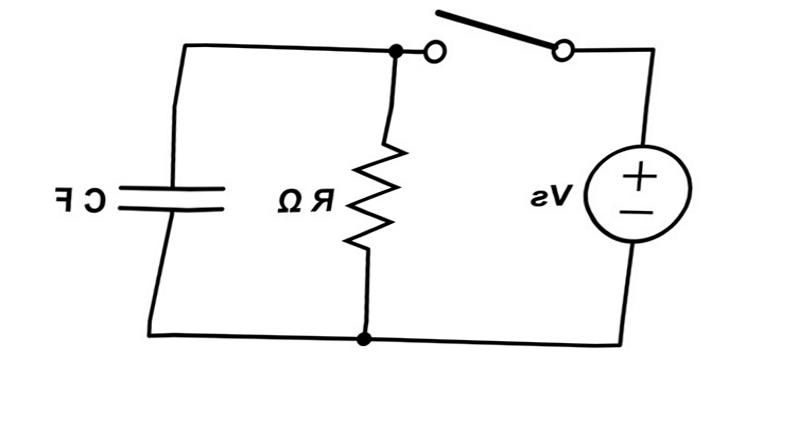Battery: (577, 125, 699, 259)
